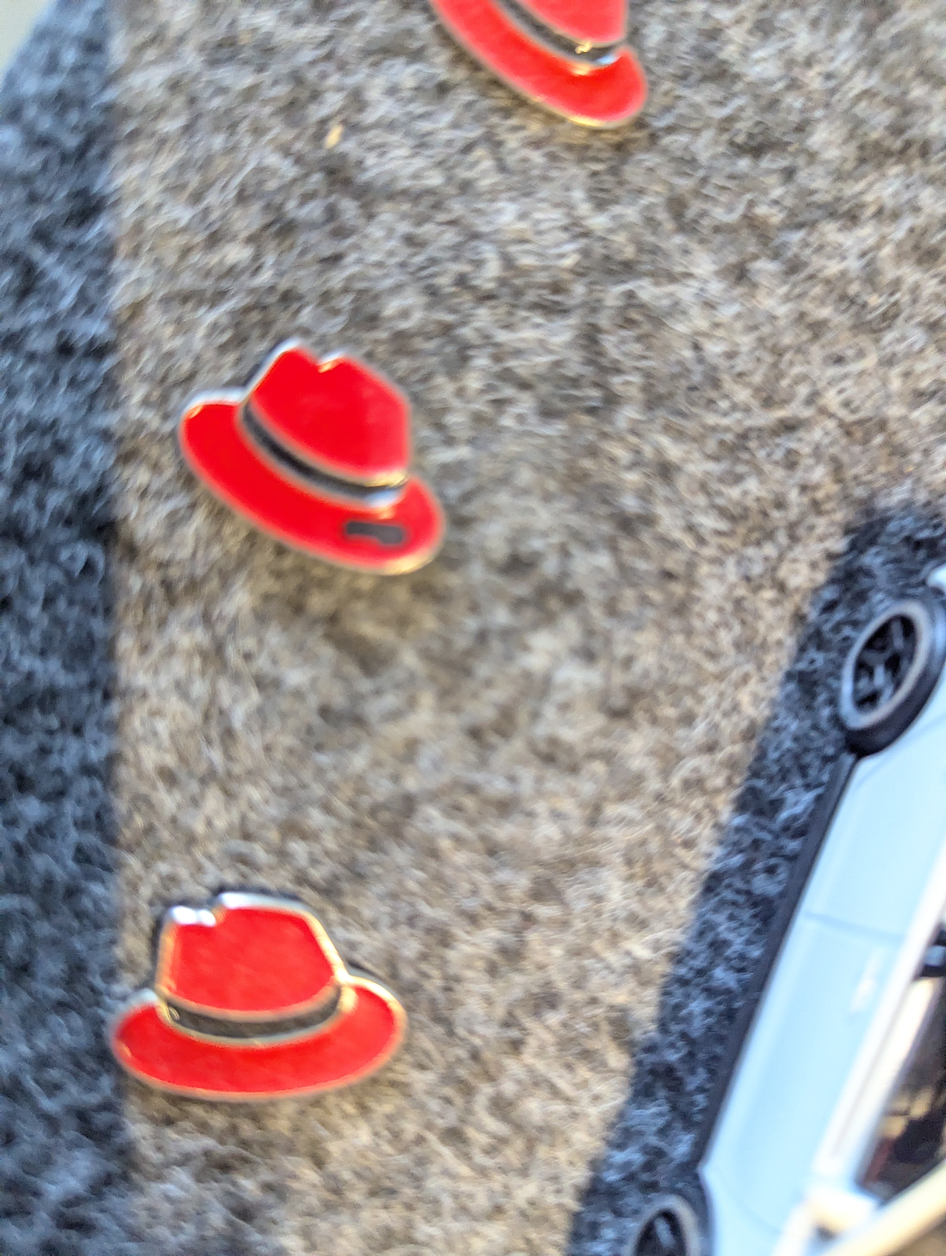Red-Hat: (141, 316, 544, 612), (100, 865, 427, 1131), (411, 0, 672, 152)
Scratch: (324, 507, 423, 564)
